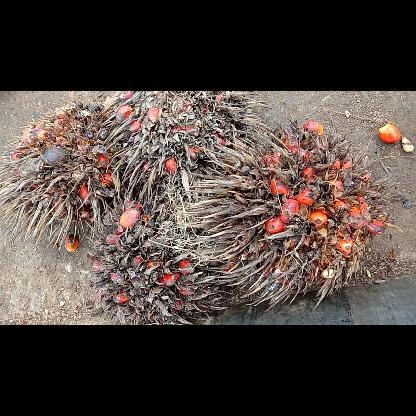Terlalu masak: (172, 116, 404, 312), (80, 166, 232, 324), (0, 99, 150, 255), (92, 91, 276, 203)
